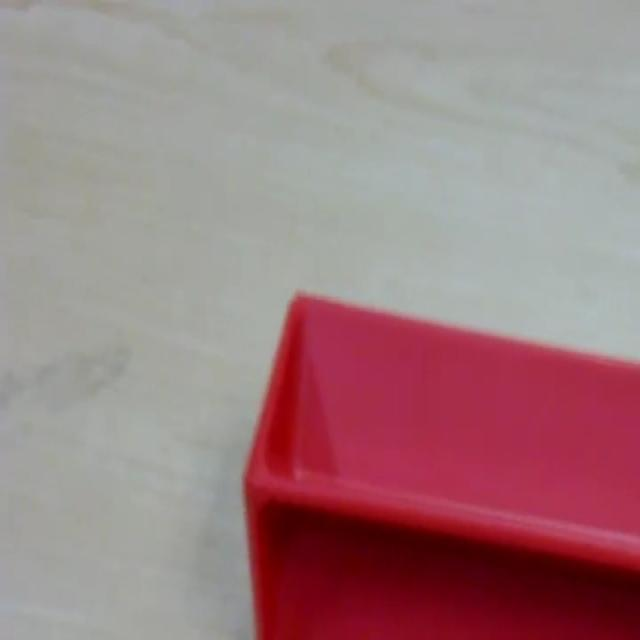red_block: (242, 287, 638, 637)
